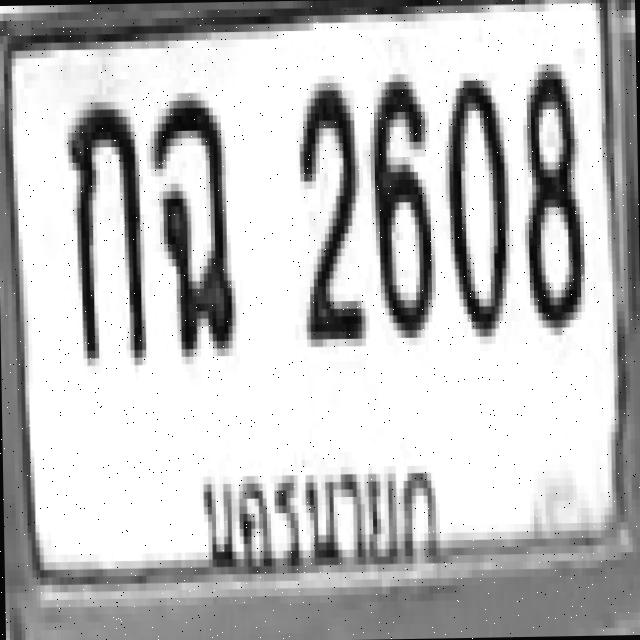0: (441, 69, 509, 334)
10GorGai: (63, 94, 142, 358)
18ChorChing: (149, 88, 232, 353)
2: (294, 74, 362, 340)
6: (364, 66, 432, 330)
8: (518, 60, 582, 324)
NakhonNayok: (184, 432, 449, 580)
